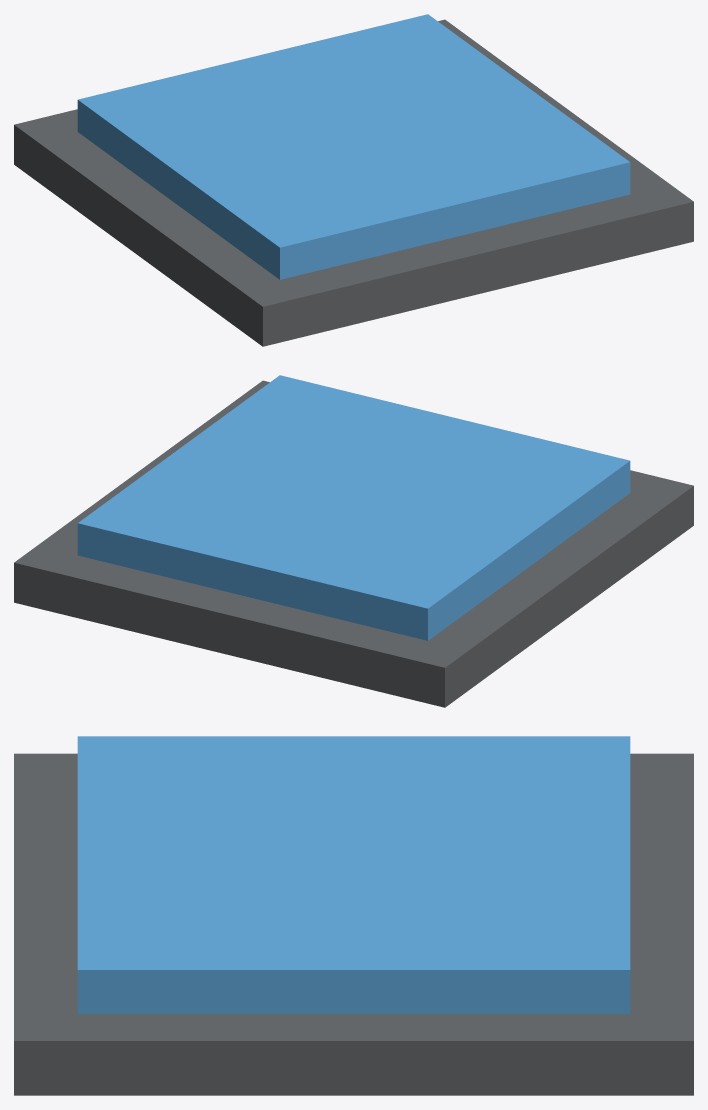
File: Button2.fbx
3 views of the same model, one above another, from view 1: azimuth 30°, elevation 25°; view 2: azimuth 150°, elevation 25°; view 3: azimuth 270°, elevation 25° (orthographic). The views are drawn at different scales.
Visible parts, largest first — view 1: Cube.002, Cube.003; view 2: Cube.002, Cube.003; view 3: Cube.002, Cube.003.
Part boxes in pixels (<box>): Cube.002: <box>77,14,630,279</box>; Cube.003: <box>14,19,693,346</box>; Cube.002: <box>77,375,630,640</box>; Cube.003: <box>14,380,693,707</box>; Cube.002: <box>77,736,630,1013</box>; Cube.003: <box>14,753,693,1095</box>.
Size of the model in its own units: 35.96 by 5.76 by 35.96.
